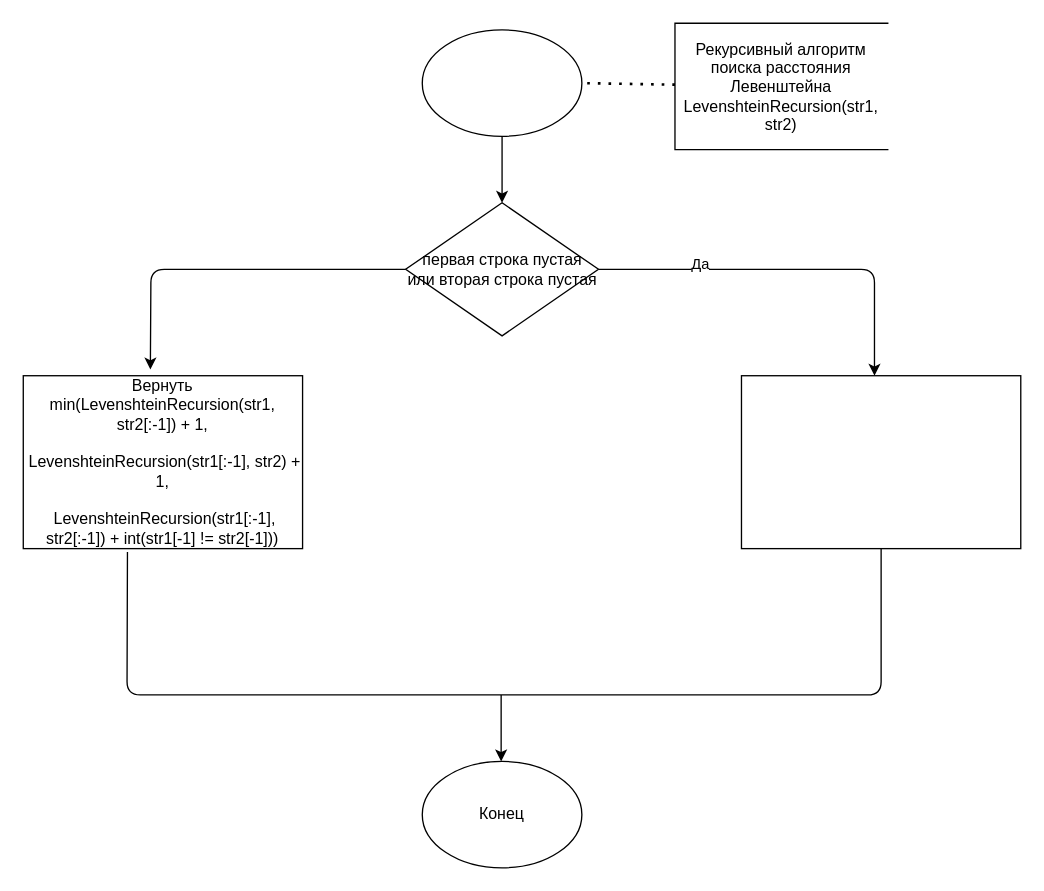
Image size: 1044x891. Some labels were removed from this diagram. The box of each missing label's shape, as (x1, y1, x2, y2) in pixels:
Вернуть разность длин первой и второй строки: (740, 374, 1021, 549)
Начало: (421, 29, 582, 136)
